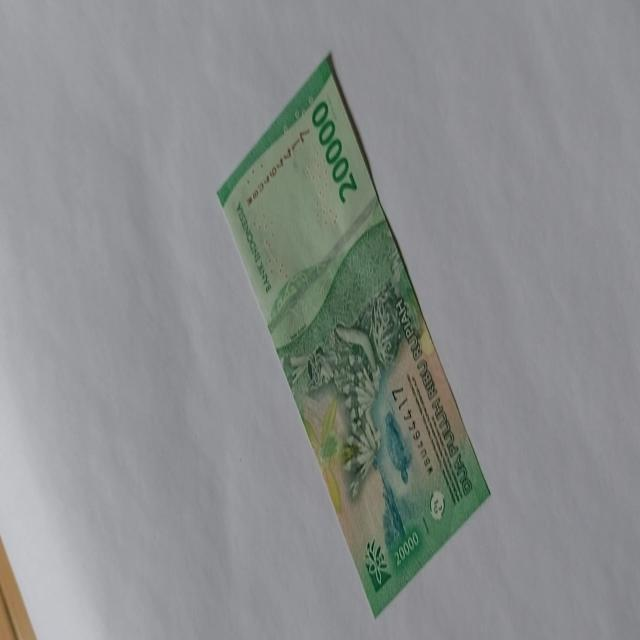dua puluh ribu rupiah: (216, 50, 492, 618)
